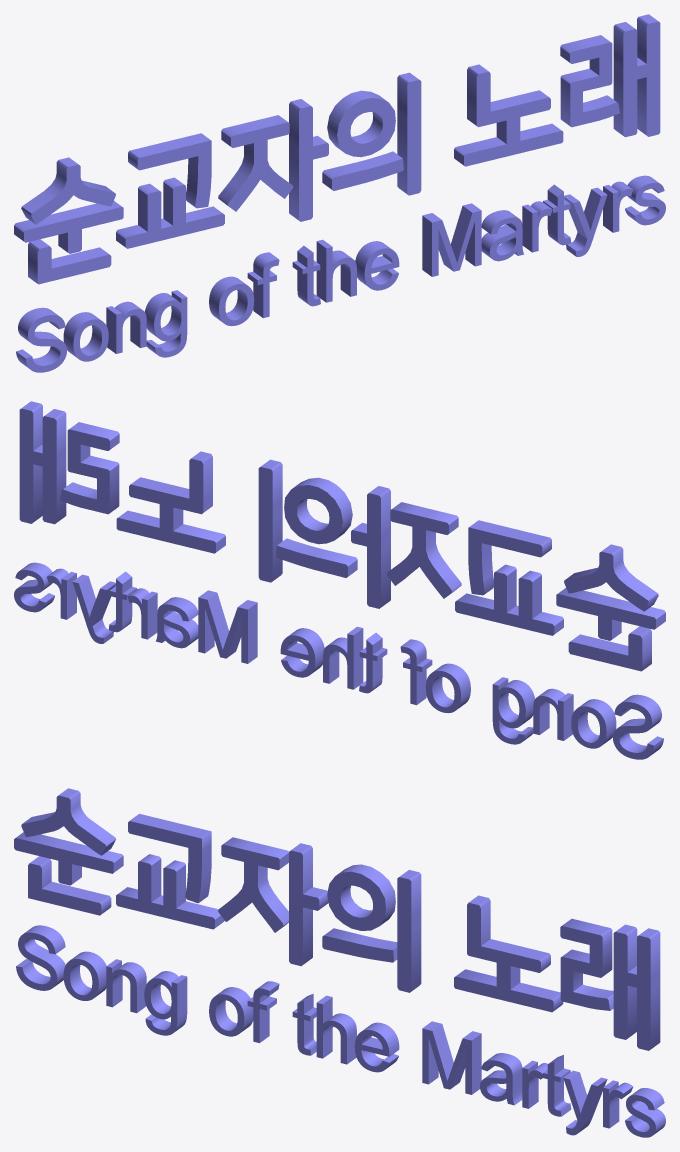
Rendered from Song.FBX.
The picture shows the model from 3 angles, top to bottom: view 1: azimuth 30°, elevation 25°; view 2: azimuth 150°, elevation 25°; view 3: azimuth 330°, elevation 25°; orthographic projection.
Parts seen in each view (by area): view 1: TextPlus004; view 2: TextPlus004; view 3: TextPlus004.
Boxes of the visible parts, x1,y1,x2,y2 form: TextPlus004: (14, 14, 665, 372); TextPlus004: (14, 401, 665, 759); TextPlus004: (14, 788, 665, 1137).
Size of the model in its own units: 103 by 33.05 by 2.73.
